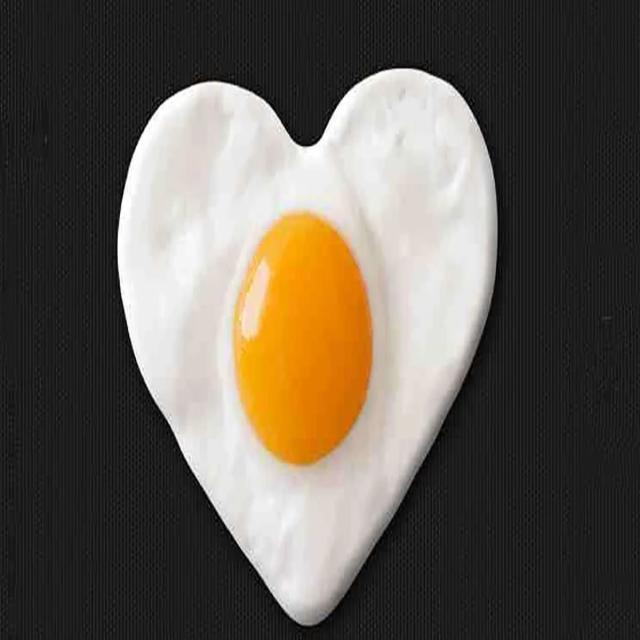huevos: (109, 45, 522, 636)
